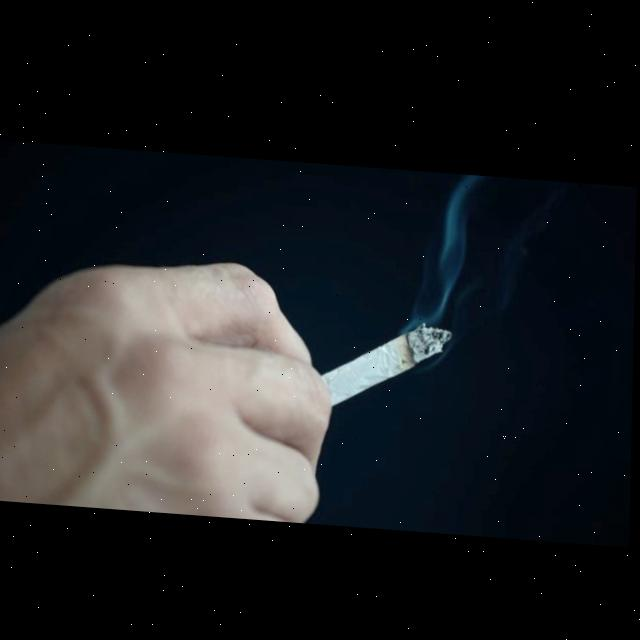cigarette: (321, 309, 453, 409)
